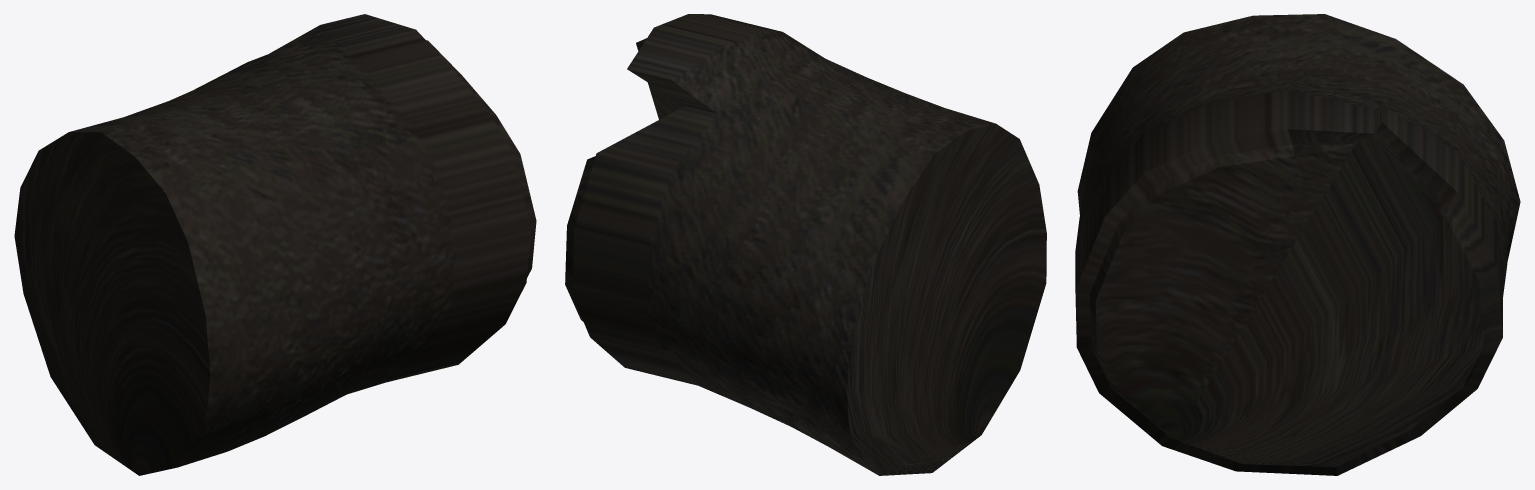
File: BicepDer.obj
The picture shows the model from 3 angles, left to right: view 1: azimuth 30°, elevation 25°; view 2: azimuth 150°, elevation 25°; view 3: azimuth 270°, elevation 25°; orthographic projection. The views are drawn at different scales.
Parts seen in each view (by area): view 1: BicepDer:polySurface11; view 2: BicepDer:polySurface11; view 3: BicepDer:polySurface11.
Part boxes in pixels (bbox=[...]): BicepDer:polySurface11: bbox=[14, 14, 536, 475]; BicepDer:polySurface11: bbox=[565, 14, 1046, 475]; BicepDer:polySurface11: bbox=[1075, 14, 1520, 475].
Size of the model in its own units: 0.4855 by 0.492 by 0.497.
Materials: 1 (1 with a texture image).
